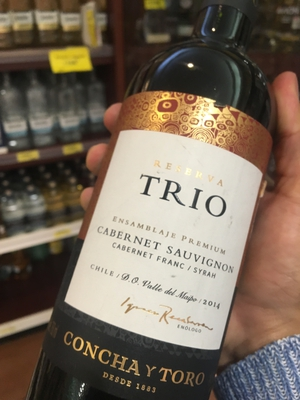trio cabernet sauvignon: (48, 42, 267, 399)
